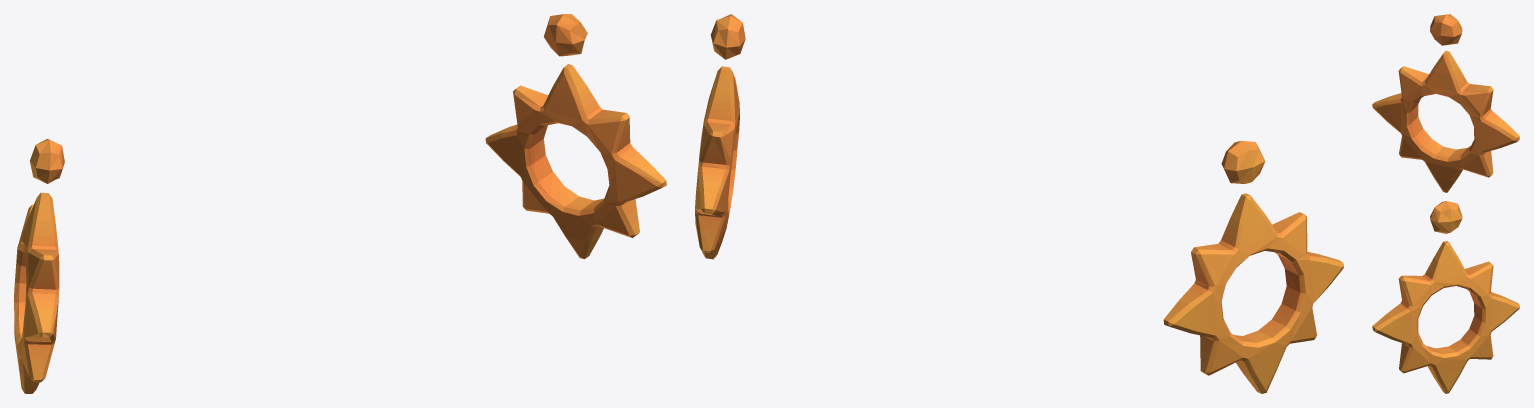
Rendered from CharSkyKid_Horn_SunnyEarring.glb.
3 renders of one model, left to right at view 1: azimuth 30°, elevation 25°; view 2: azimuth 150°, elevation 25°; view 3: azimuth 270°, elevation 25°, orthographic. The views are drawn at different scales.
Visible parts, largest first — view 1: CharSkyKid_Horn_SunnyEarring; view 2: CharSkyKid_Horn_SunnyEarring; view 3: CharSkyKid_Horn_SunnyEarring.
Part boxes in pixels (bbox=[...]): CharSkyKid_Horn_SunnyEarring: bbox=[14, 14, 666, 393]; CharSkyKid_Horn_SunnyEarring: bbox=[695, 14, 1343, 393]; CharSkyKid_Horn_SunnyEarring: bbox=[1372, 14, 1519, 393].
Bounding box in the file's own units: 2.54 × 0.9608 × 0.6965.
1 material, 1 textured.
